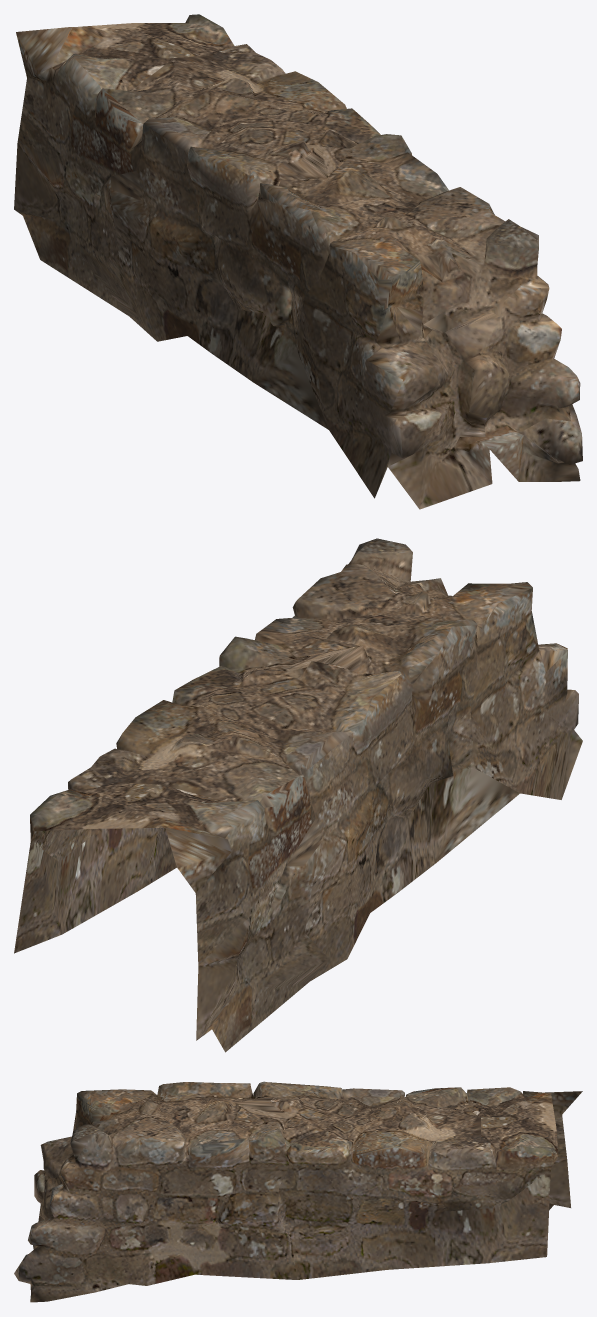
Rendered from Q_Wall.fbx.
3 renders of one model, top to bottom at view 1: azimuth 30°, elevation 25°; view 2: azimuth 150°, elevation 25°; view 3: azimuth 270°, elevation 25°, orthographic. The views are drawn at different scales.
Visible parts, largest first — view 1: Aset_castle_wall_M_sctv3_LOD5; view 2: Aset_castle_wall_M_sctv3_LOD5; view 3: Aset_castle_wall_M_sctv3_LOD5.
Part boxes in pixels (x1=…): Aset_castle_wall_M_sctv3_LOD5: x1=14, y1=14, x2=582, y2=509; Aset_castle_wall_M_sctv3_LOD5: x1=14, y1=538, x2=582, y2=1052; Aset_castle_wall_M_sctv3_LOD5: x1=14, y1=1081, x2=582, y2=1302.
Bounding box in the file's own units: 24.41 × 27.8 × 85.46.
